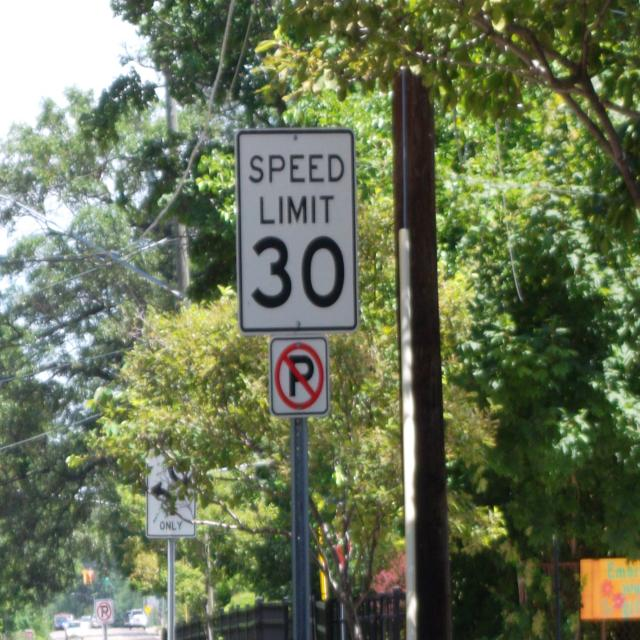regulatory: (234, 125, 360, 336), (144, 442, 200, 546), (265, 334, 332, 418), (92, 599, 116, 628)
